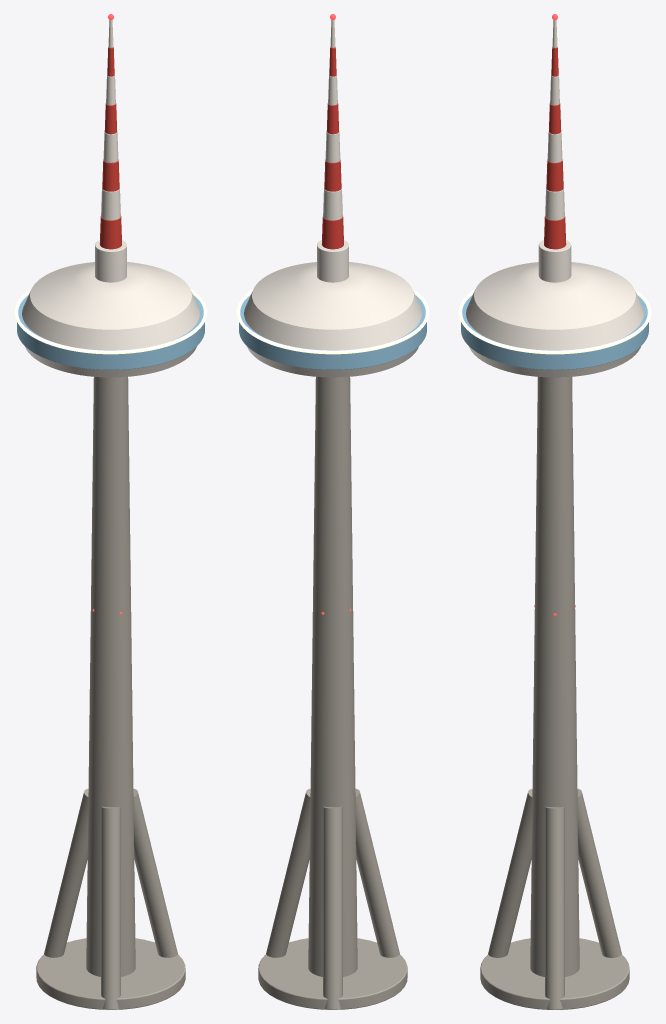
File: tv_tower.glb
3 renders of one model, left to right at view 1: azimuth 30°, elevation 25°; view 2: azimuth 150°, elevation 25°; view 3: azimuth 270°, elevation 25°, orthographic.
Visible parts, largest first — view 1: tv_tower; view 2: tv_tower; view 3: tv_tower.
Part boxes in pixels (left/top/right/bottom): tv_tower: left=14, top=14, right=207, bottom=1009; tv_tower: left=236, top=14, right=429, bottom=1009; tv_tower: left=458, top=14, right=651, bottom=1009.
Size of the model in its own units: 31 by 171 by 31.
1 material, 1 textured.
